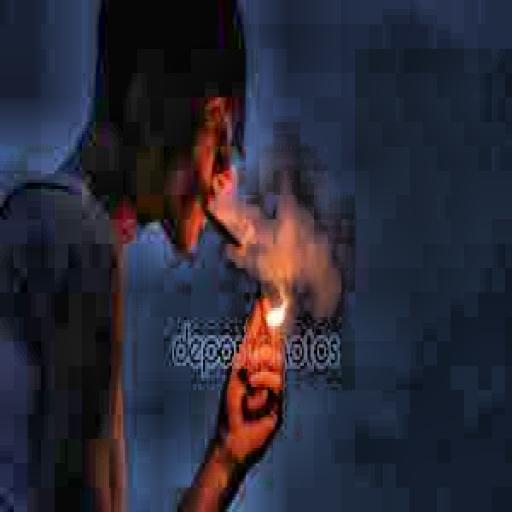fire: (259, 287, 287, 329)
